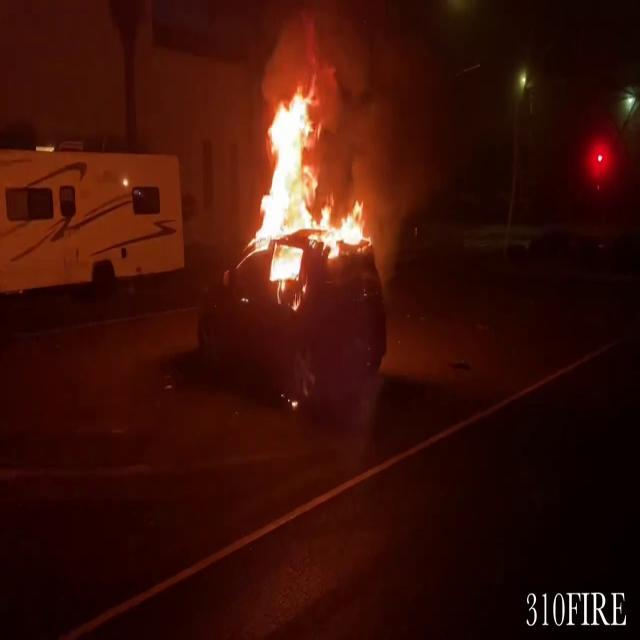Fire: (244, 74, 370, 278)
Smoke: (300, 2, 468, 226)
